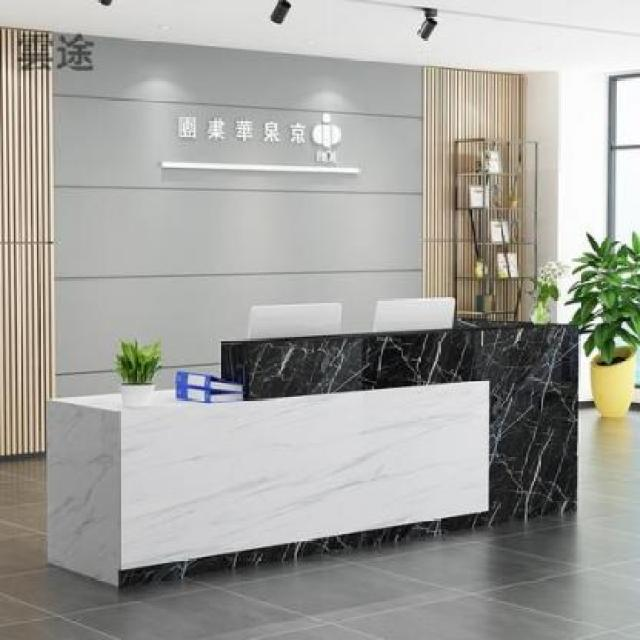frontdesk: (35, 311, 590, 594)
